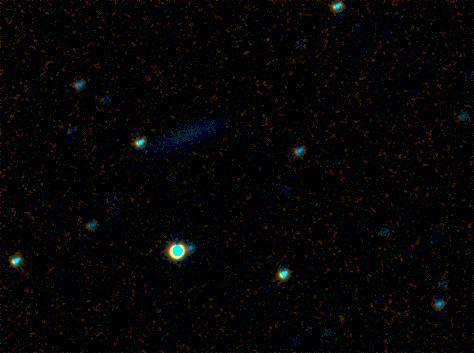star: (251, 24, 281, 54)
